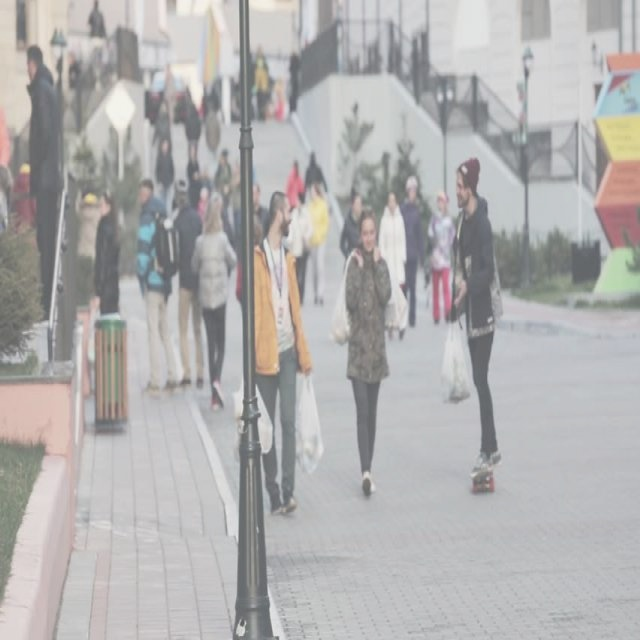pessoa: (252, 190, 314, 518), (446, 156, 503, 482), (143, 66, 244, 246), (344, 202, 394, 498), (23, 42, 65, 326), (188, 196, 238, 416), (134, 174, 180, 398), (166, 173, 206, 391), (424, 187, 457, 326), (88, 190, 122, 318), (252, 37, 302, 124), (400, 175, 426, 328), (378, 188, 408, 292), (305, 178, 329, 306), (286, 190, 312, 306), (51, 24, 89, 92), (11, 150, 37, 234), (283, 156, 306, 247), (340, 184, 366, 260), (302, 150, 328, 206), (249, 180, 270, 247), (88, 0, 109, 43)
